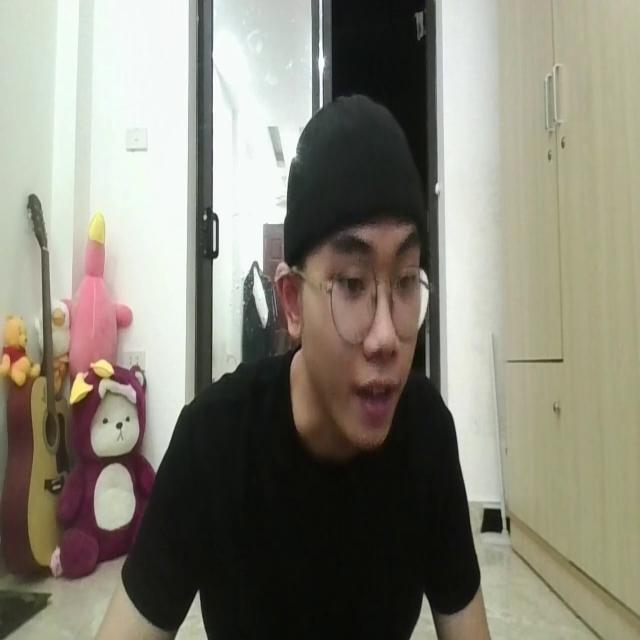student: (94, 89, 492, 640)
